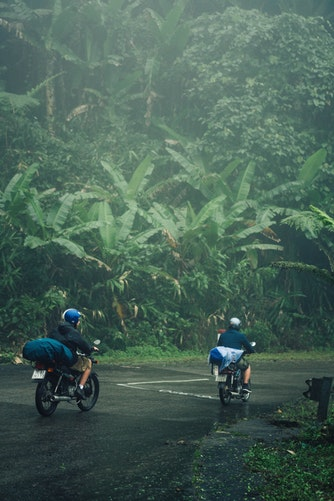helmet: (57, 306, 89, 323), (223, 314, 246, 329)
